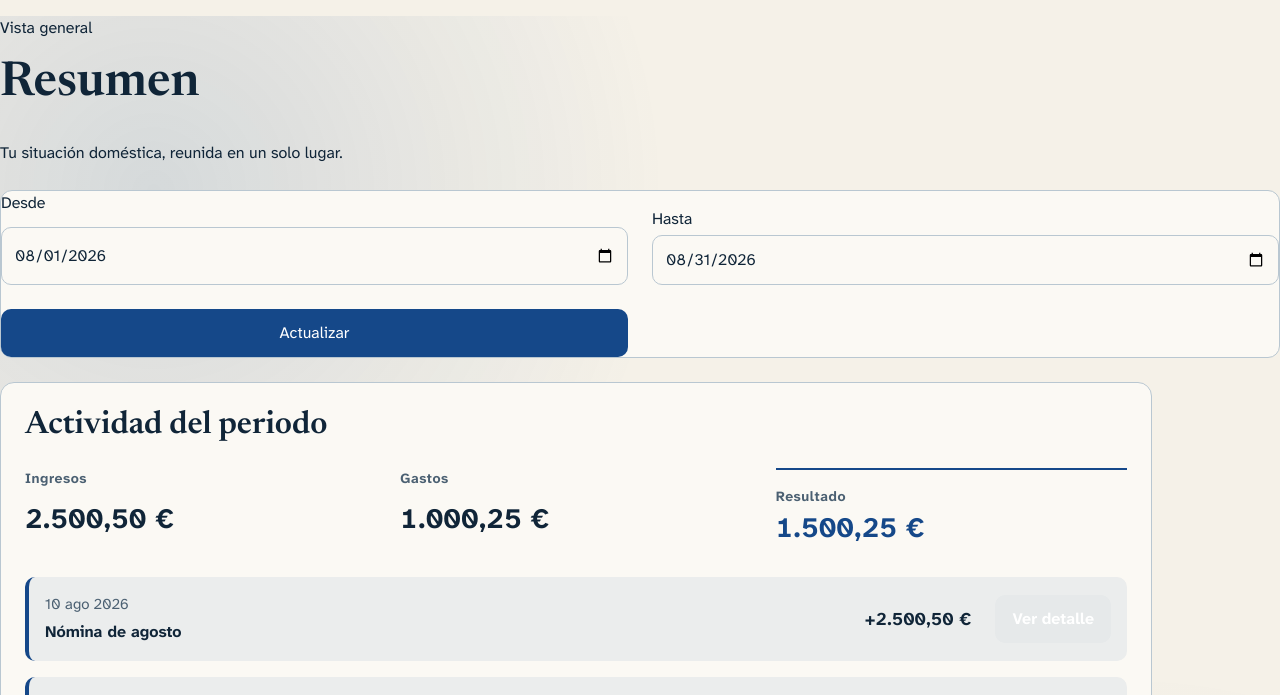
Test: ReportsSummary › names archived catalog entries and hides unresolved reference identifiers
The width and height of the screenshot is (1280, 695).
Click the button with aria-label "Ver detalle de Nómina de agosto" at (1053, 619), box [995,595,1111,643]
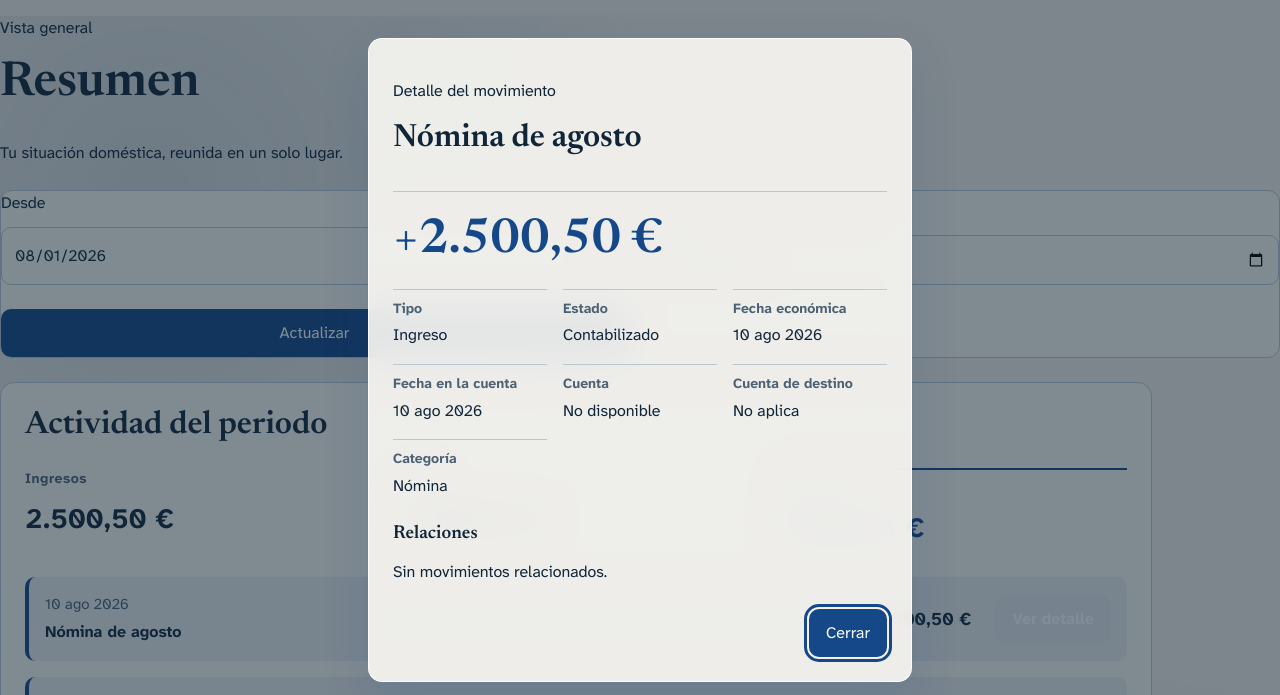
Expected: the dialog "Nómina de agosto" does not show "missing-account-id", [368,38,912,682]
Expected: the text "Nómina" is shown, [393,475,448,496]
Expected: the text "No disponible" is shown, [563,400,660,421]
